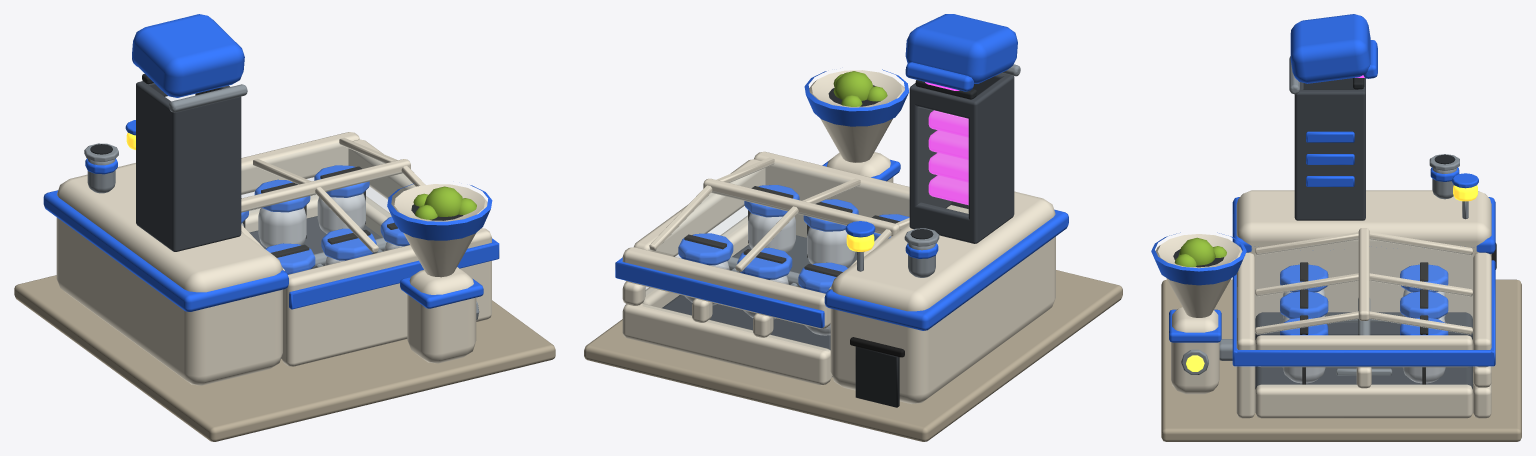
Rendered from enrichment_plant.glb.
3 renders of one model, left to right at view 1: azimuth 30°, elevation 25°; view 2: azimuth 150°, elevation 25°; view 3: azimuth 270°, elevation 25°, orthographic. The views are drawn at different scales.
Parts seen in each view (by area): view 1: stage_1__M_CreamPlastic, stage_0__M_SugarPad, stage_3__M_SmokePlastic, stage_2__M_ClearGlass, stage_2__M_CreamPlastic, stage_1__M_Team, head__M_Team, stage_2__M_Team, rotor_1__M_Foil, ore__M_Ore_Uranium, rotor_0__M_Foil, rotor_4__M_Team (+6 smaller); view 2: stage_1__M_CreamPlastic, stage_0__M_SugarPad, stage_2__M_ClearGlass, stage_3__M_SmokePlastic, stage_2__M_CreamPlastic, stage_1__M_Team, head__M_Team, stage_3__M_ClearGlass, stage_1__M_ClearGlass, stage_1__M_SmokePlastic, stage_2__M_Team, stage_1__M_Dark (+14 smaller); view 3: stage_1__M_CreamPlastic, stage_0__M_SugarPad, stage_2__M_ClearGlass, stage_2__M_CreamPlastic, stage_3__M_SmokePlastic, stage_1__M_Team, head__M_Team, stage_1__M_SmokePlastic, stage_1__M_ClearGlass, stage_2__M_Team, stage_3__M_Team, stage_2__M_SpringSteel (+10 smaller).
Boxes of the visible parts, box(x1,y1,x2,y2) form: stage_1__M_CreamPlastic: box(56, 132, 491, 385); stage_0__M_SugarPad: box(14, 275, 555, 441); stage_3__M_SmokePlastic: box(136, 81, 241, 251); stage_2__M_ClearGlass: box(242, 143, 415, 273); stage_2__M_CreamPlastic: box(241, 137, 487, 363); stage_1__M_Team: box(43, 190, 499, 311); head__M_Team: box(132, 14, 244, 97); stage_2__M_Team: box(85, 158, 492, 308); rotor_1__M_Foil: box(258, 208, 306, 247); ore__M_Ore_Uranium: box(413, 186, 476, 219); rotor_0__M_Foil: box(317, 193, 365, 233); rotor_4__M_Team: box(321, 228, 376, 260); stage_1__M_CreamPlastic: box(622, 151, 1055, 404); stage_0__M_SugarPad: box(584, 270, 1122, 441); stage_2__M_ClearGlass: box(649, 163, 908, 292); stage_3__M_SmokePlastic: box(909, 73, 1014, 243); stage_2__M_CreamPlastic: box(649, 70, 909, 289); stage_1__M_Team: box(615, 209, 1068, 330); head__M_Team: box(905, 14, 1017, 91); stage_3__M_ClearGlass: box(918, 107, 967, 215); stage_1__M_ClearGlass: box(643, 286, 829, 350); stage_1__M_SmokePlastic: box(662, 235, 856, 376); stage_2__M_Team: box(804, 69, 938, 258); stage_1__M_Dark: box(855, 346, 899, 407); stage_1__M_CreamPlastic: box(1236, 190, 1491, 418); stage_0__M_SugarPad: box(1161, 279, 1521, 441); stage_2__M_ClearGlass: box(1255, 239, 1472, 334); stage_2__M_CreamPlastic: box(1155, 228, 1473, 394); stage_3__M_SmokePlastic: box(1294, 78, 1365, 220); stage_1__M_Team: box(1232, 197, 1495, 366); head__M_Team: box(1290, 14, 1377, 83); stage_1__M_SmokePlastic: box(1255, 312, 1472, 389); stage_1__M_ClearGlass: box(1256, 367, 1472, 385); stage_2__M_Team: box(1151, 167, 1459, 342); stage_3__M_Team: box(1306, 131, 1354, 186); stage_2__M_SpringSteel: box(1181, 154, 1468, 374).
Size of the model in its own units: 1.92 by 1.74 by 1.97.
